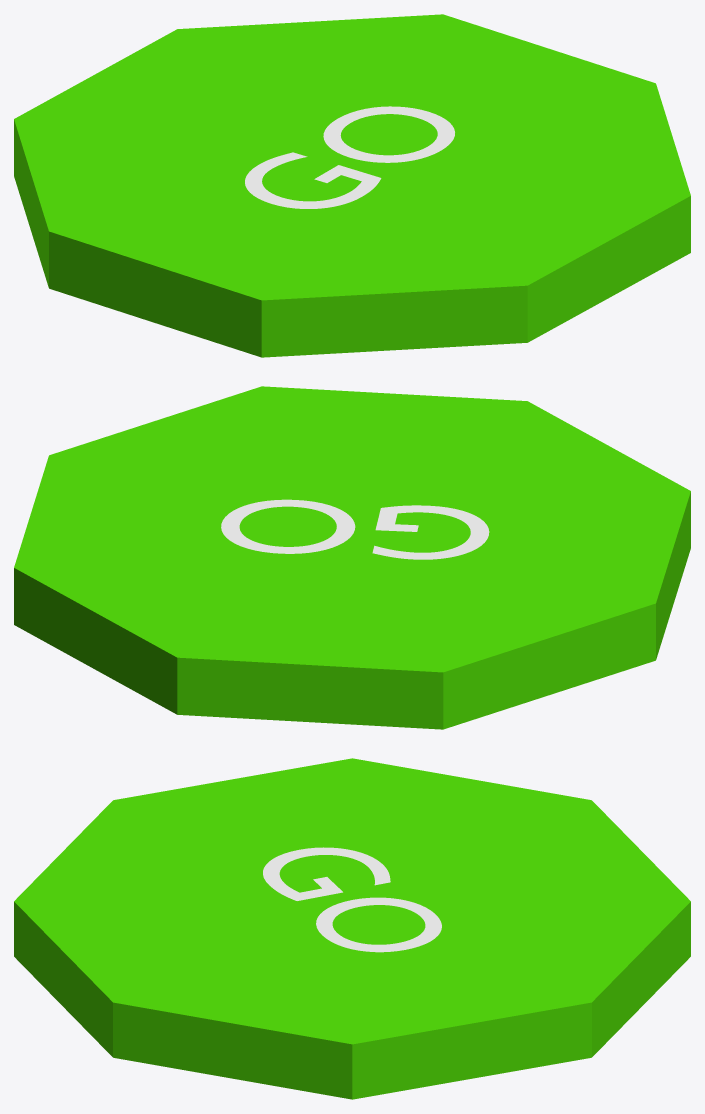
Rendered from goSign.glb.
The picture shows the model from 3 angles, top to bottom: view 1: azimuth 30°, elevation 25°; view 2: azimuth 150°, elevation 25°; view 3: azimuth 270°, elevation 25°; orthographic projection. The views are drawn at different scales.
Visible parts, largest first — view 1: Cylinder, Text; view 2: Cylinder, Text; view 3: Cylinder, Text.
Part boxes in pixels (x1=…): Cylinder: x1=14, y1=14, x2=690, y2=357; Text: x1=245, y1=106, x2=454, y2=208; Cylinder: x1=14, y1=386, x2=690, y2=729; Text: x1=221, y1=499, x2=489, y2=559; Cylinder: x1=14, y1=758, x2=690, y2=1099; Text: x1=263, y1=847, x2=441, y2=952.
Bounding box in the file's own units: 2 × 0.181 × 2.
